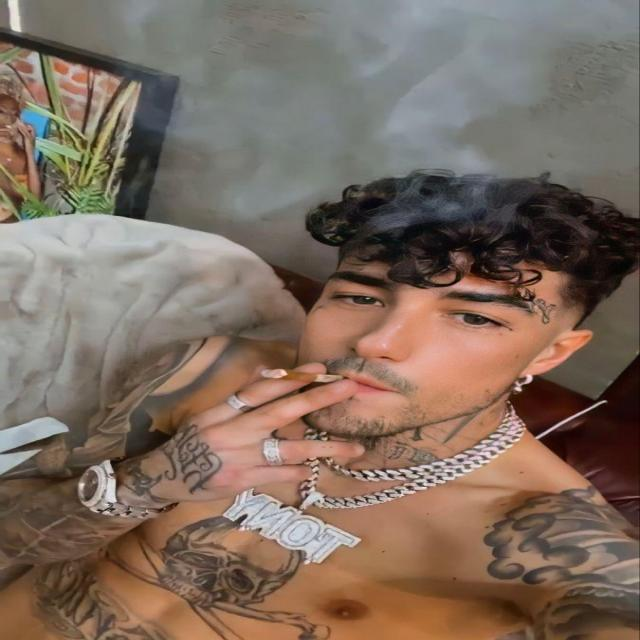cigarette: (229, 330, 365, 392)
